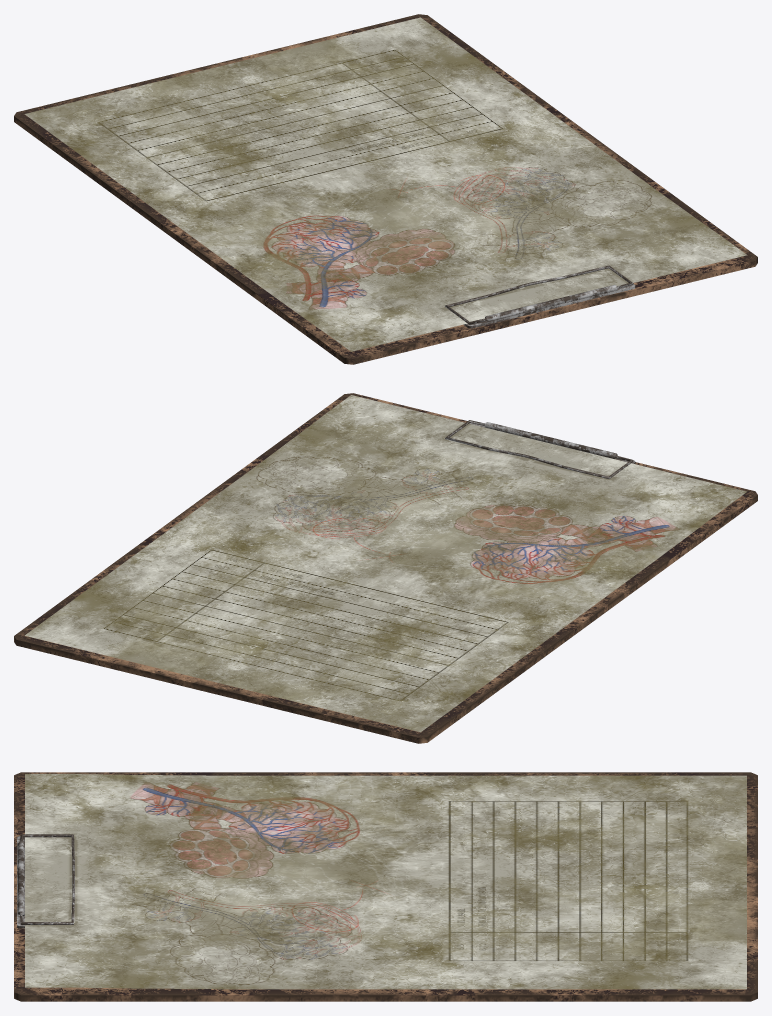
File: object_chart.fbx
3 renders of one model, top to bottom at view 1: azimuth 30°, elevation 25°; view 2: azimuth 150°, elevation 25°; view 3: azimuth 270°, elevation 25°, orthographic. The views are drawn at different scales.
Visible parts, largest first — view 1: paper, binder; view 2: paper, binder; view 3: paper, binder.
Part boxes in pixels (x1,y1,x2,y2): paper: (24,17,747,351); binder: (14,14,757,364); paper: (25,395,746,732); binder: (14,393,757,743); paper: (25,774,746,989); binder: (14,772,757,1001).
Bounding box in the file's own units: 21.92 × 0.6309 × 30.92.
